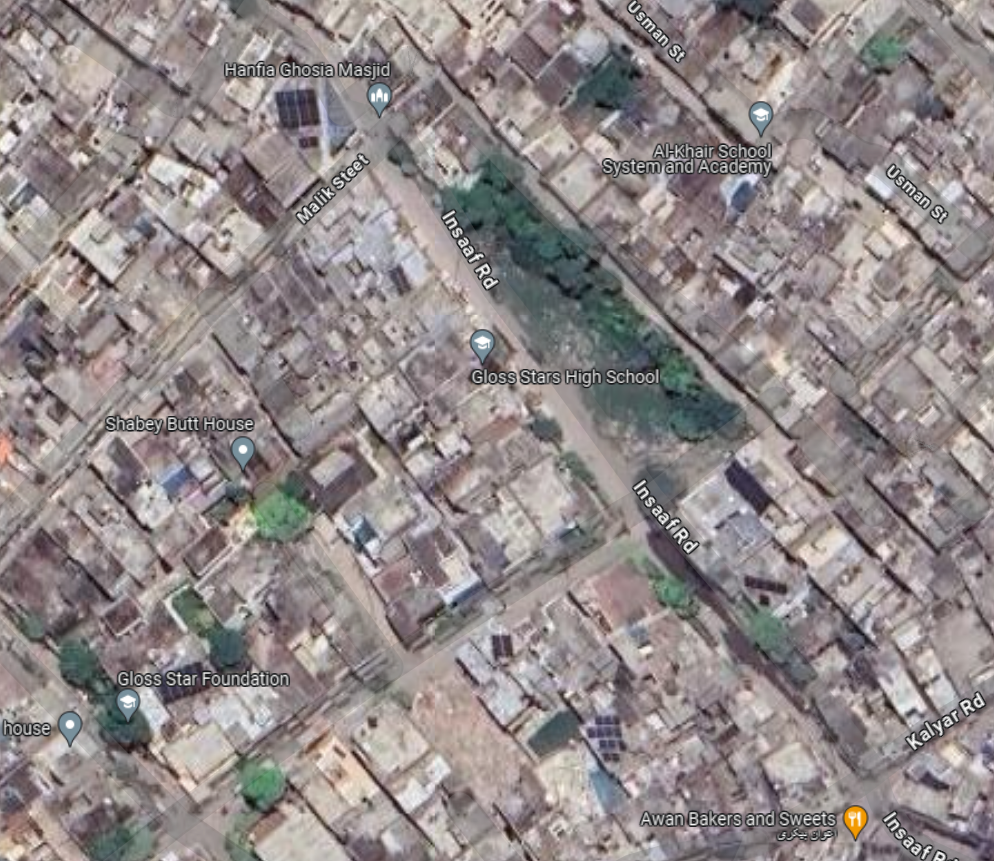solar-panel: (272, 87, 332, 153), (714, 444, 762, 508), (582, 711, 622, 759), (489, 628, 516, 658)
